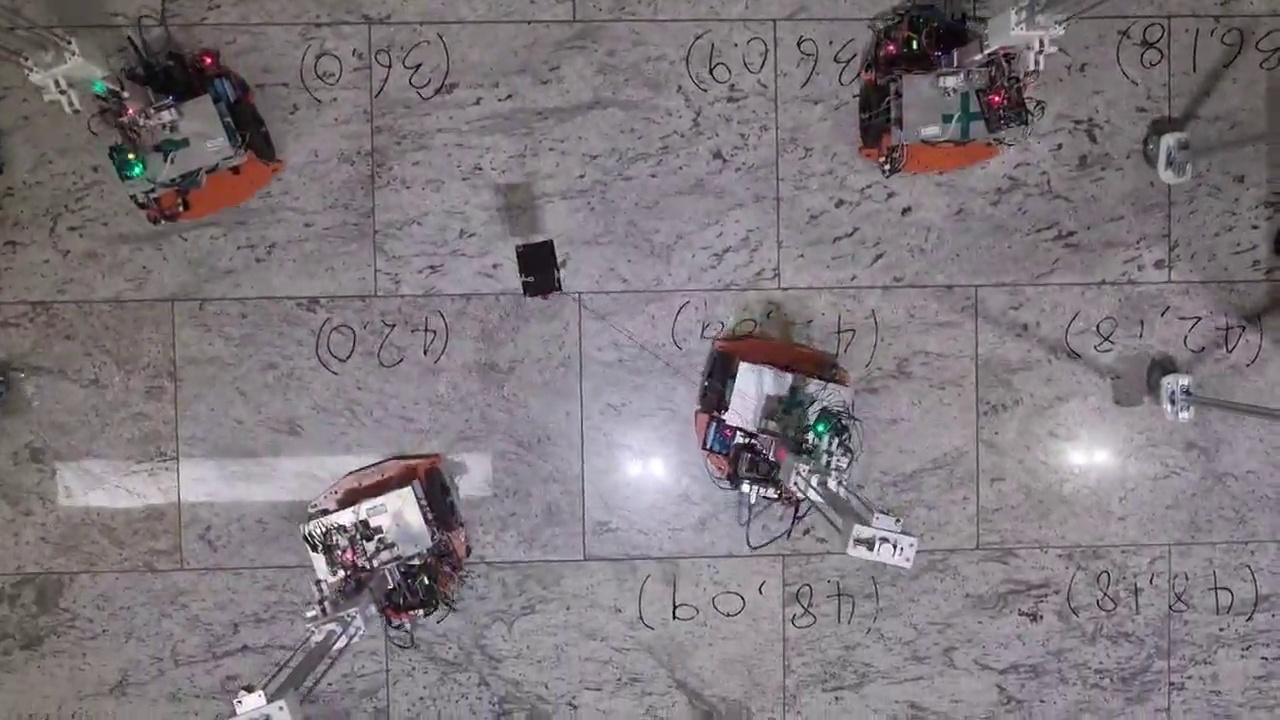e0: (514, 239, 564, 296)
r1: (697, 348, 854, 441)
r2: (857, 69, 1031, 149)
r3: (110, 101, 273, 208)
r4: (300, 466, 458, 581)
y_+_axis_vector: (776, 17, 1170, 19)
y_-_axis_vector: (370, 19, 775, 22)
